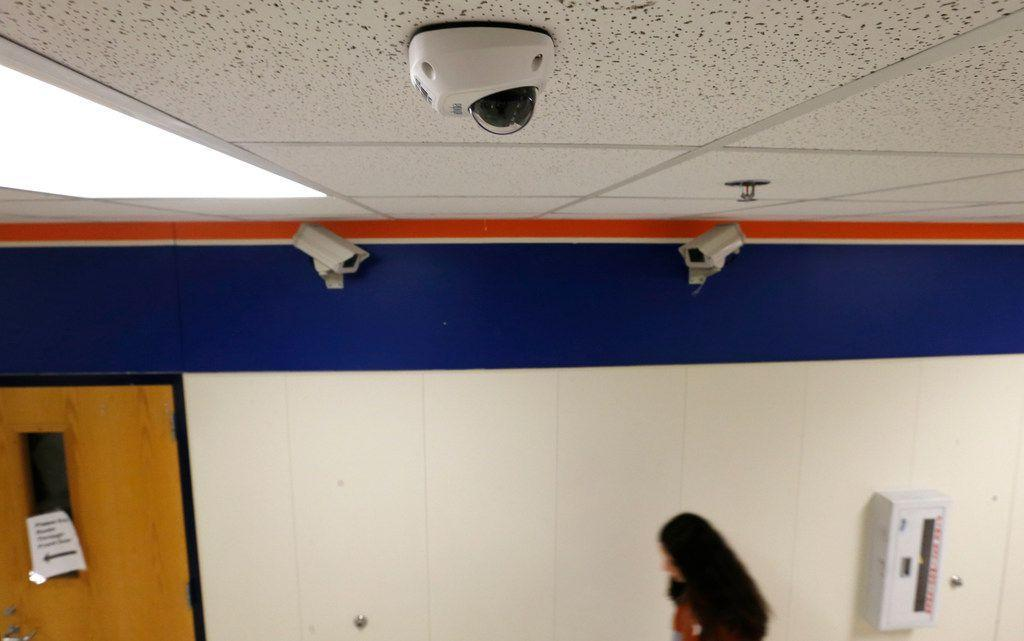CCTV: (408, 20, 555, 135), (293, 221, 373, 291)
